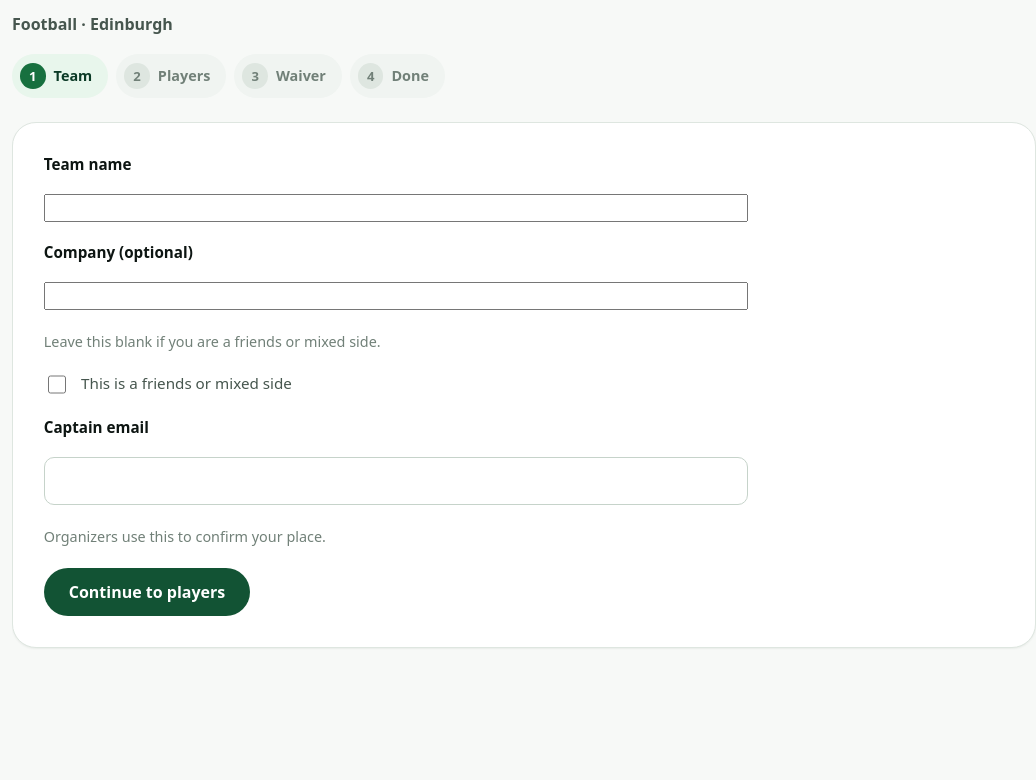
Test: RegisterWizard › blocks continue when every player name is empty
Type "Pitch FC" into the field labelled "Team name".
click(396, 208); type("Pitch FC")  # box [44,194,748,222]
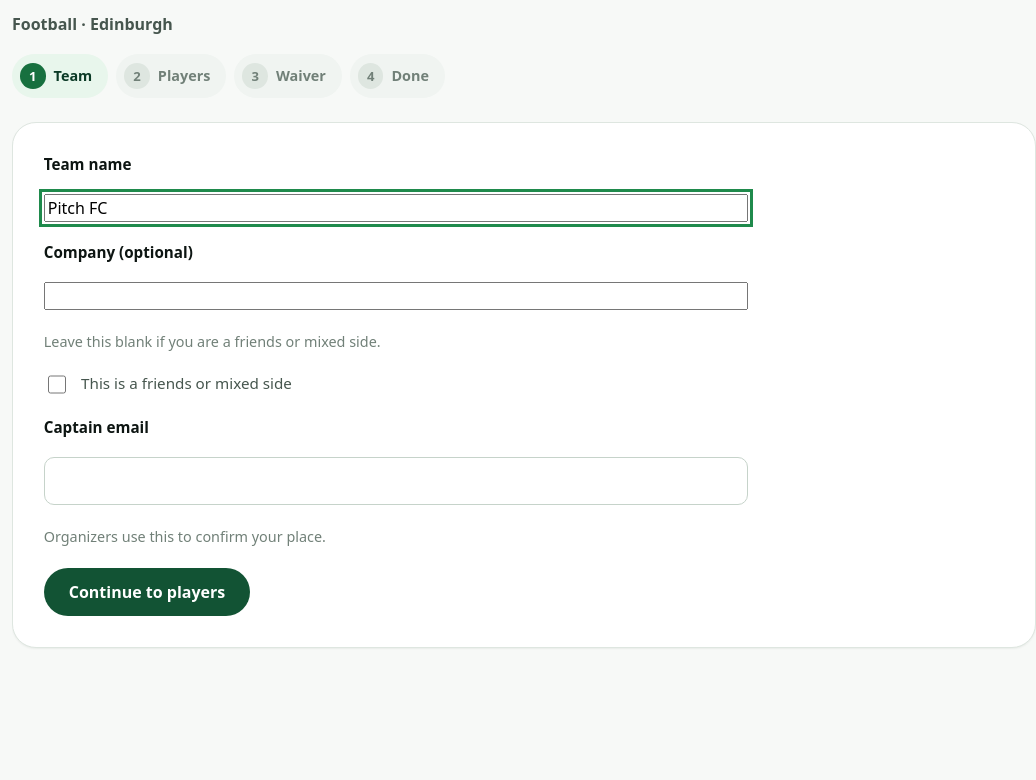
Type "cap@example.com" into the field labelled "Captain email".
click(396, 481); type("cap@example.com")  # box [44,457,748,505]
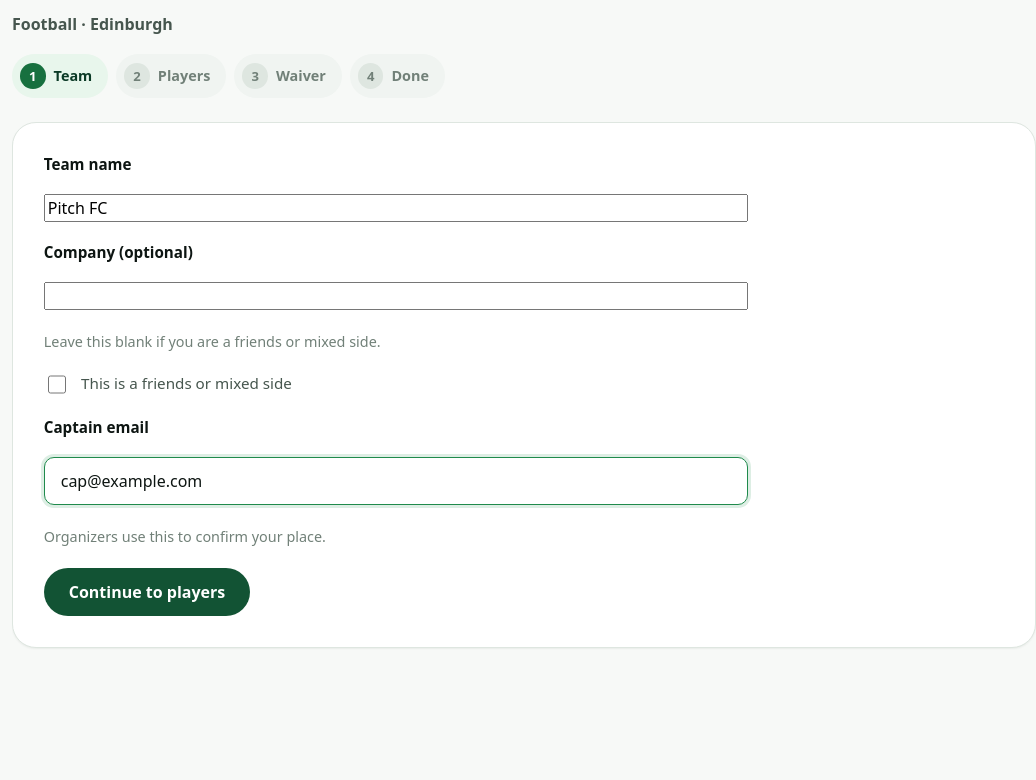
Click the button "Continue to players".
click(147, 592)  # box [44,568,250,616]
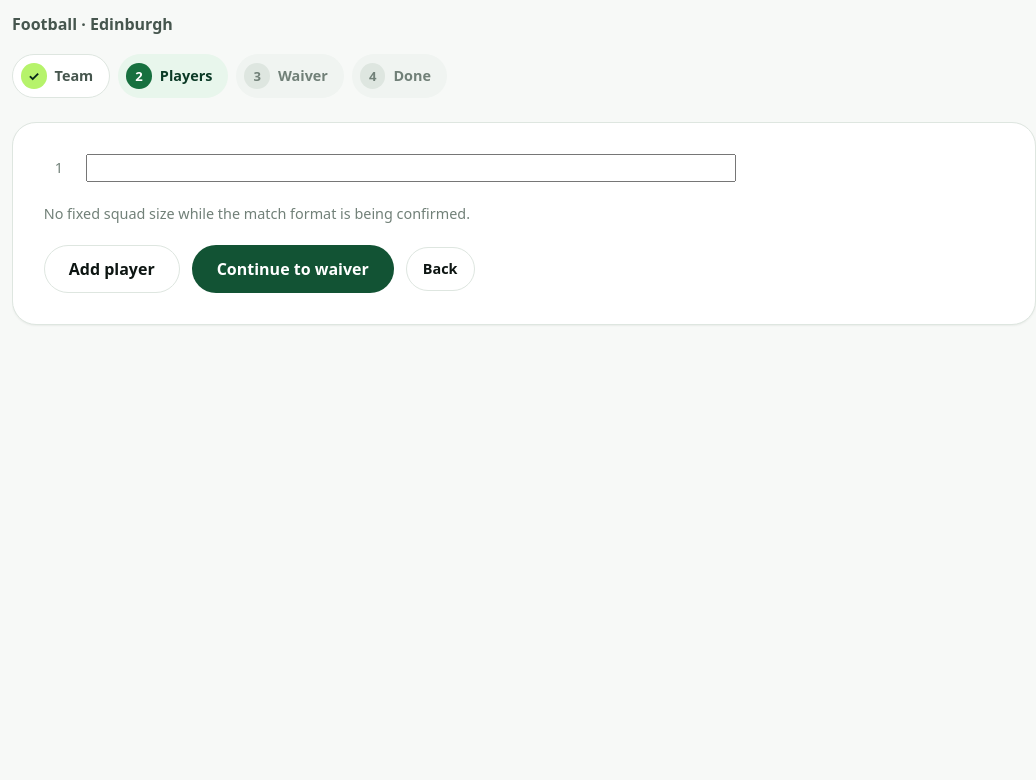
Click the button "Continue to waiver".
click(293, 269)  # box [192,245,394,293]
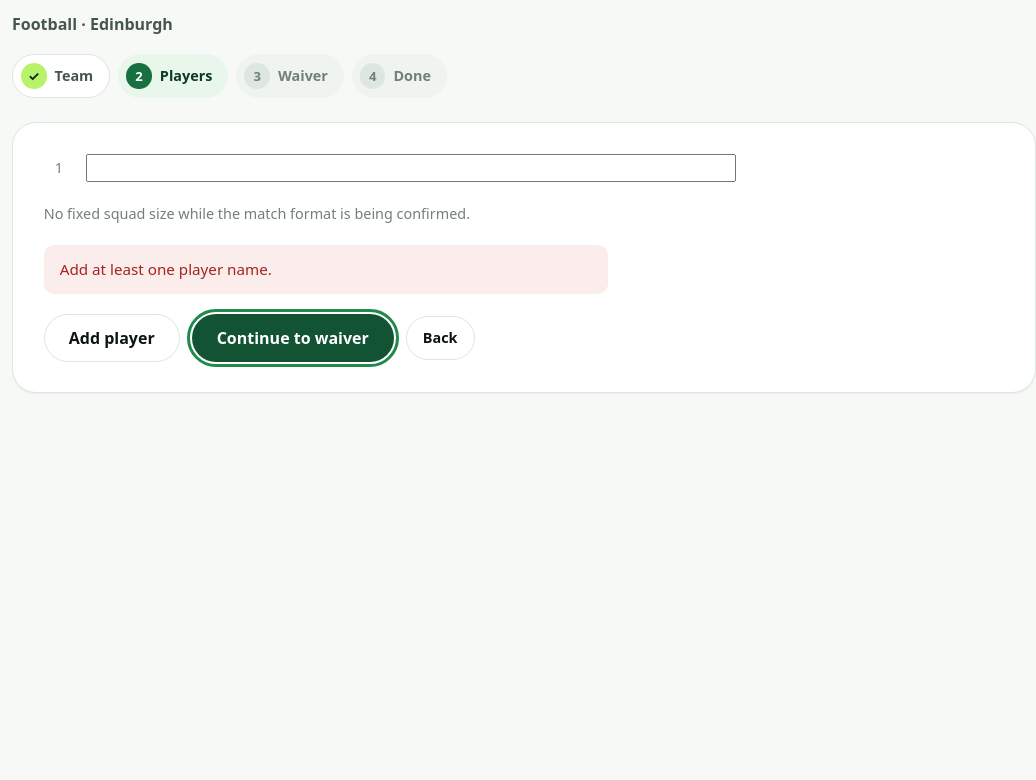
Check: the text "Add at least one player name." is shown, box [44,245,608,294]
